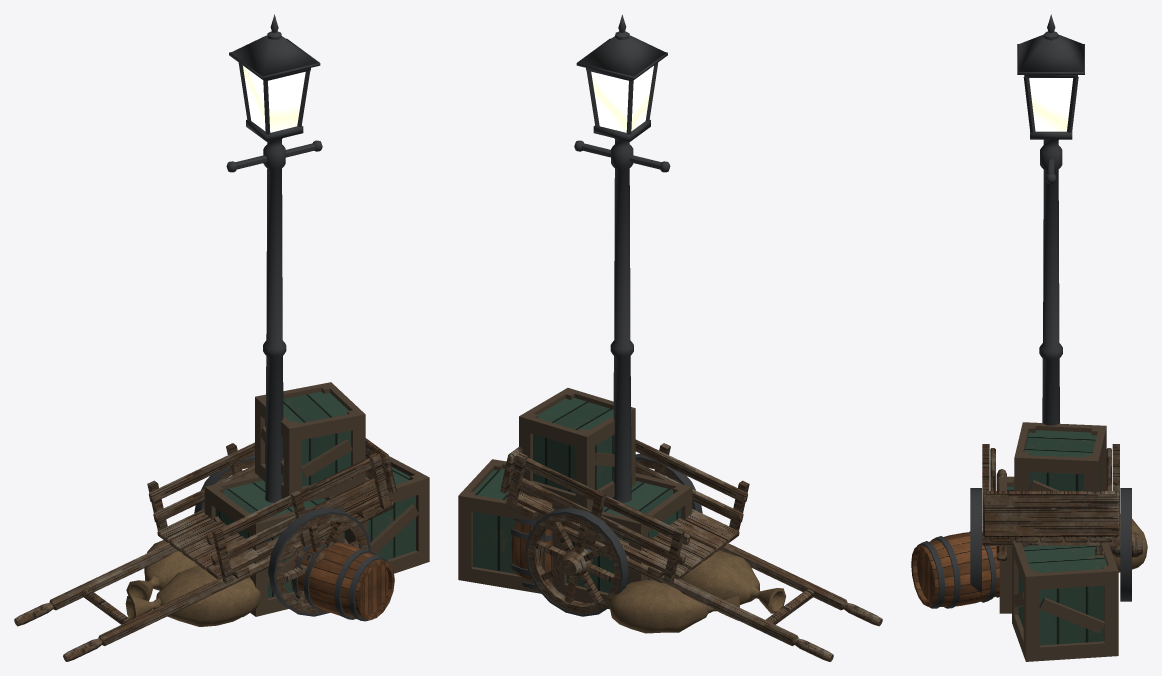
File: props.glb
3 renders of one model, left to right at view 1: azimuth 30°, elevation 25°; view 2: azimuth 150°, elevation 25°; view 3: azimuth 270°, elevation 25°, orthographic.
Parts seen in each view (by area): view 1: cart-cart-wood, crates-crate-frame, lamp-post-iron, crates-crate-timber, crates-sacking, barrels-barrel-wood, lamp-post-lamp-glow, cart-iron, barrels-iron; view 2: cart-cart-wood, crates-crate-frame, lamp-post-iron, crates-crate-timber, crates-sacking, lamp-post-lamp-glow, cart-iron, barrels-barrel-wood; view 3: crates-crate-frame, cart-cart-wood, lamp-post-iron, crates-crate-timber, barrels-barrel-wood, cart-iron, lamp-post-lamp-glow, barrels-iron, crates-sacking.
Boxes of the visible parts, x1,y1,x2,y2 form: cart-cart-wood: (14, 438, 396, 661); crates-crate-frame: (204, 382, 429, 616); lamp-post-iron: (226, 14, 322, 502); crates-crate-timber: (215, 391, 415, 597); crates-sacking: (125, 540, 260, 626); barrels-barrel-wood: (291, 540, 394, 619); lamp-post-lamp-glow: (243, 66, 305, 132); cart-iron: (194, 454, 371, 616); barrels-iron: (292, 538, 388, 621); cart-cart-wood: (500, 439, 882, 661); crates-crate-frame: (458, 388, 692, 609); lamp-post-iron: (574, 14, 670, 502); crates-crate-timber: (473, 398, 681, 593); crates-sacking: (609, 550, 786, 633); lamp-post-lamp-glow: (591, 66, 653, 132); cart-iron: (525, 453, 702, 616); barrels-barrel-wood: (511, 521, 552, 583); crates-crate-frame: (999, 422, 1118, 661); cart-cart-wood: (982, 444, 1142, 560); lamp-post-iron: (1017, 14, 1084, 425); crates-crate-timber: (1007, 430, 1107, 645); barrels-barrel-wood: (911, 532, 999, 606); cart-iron: (970, 488, 1131, 601); lamp-post-lamp-glow: (1029, 78, 1073, 131); barrels-iron: (917, 531, 999, 608); crates-sacking: (1113, 514, 1147, 572).
Size of the model in its own units: 0.9361 by 1.36 by 0.5046.
Materials: 7 (4 with a texture image).
